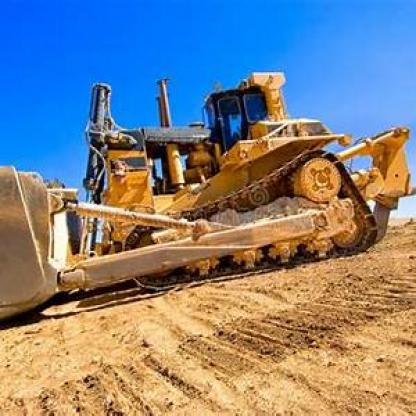bull_dozer/loader/grader: (9, 66, 414, 319)
